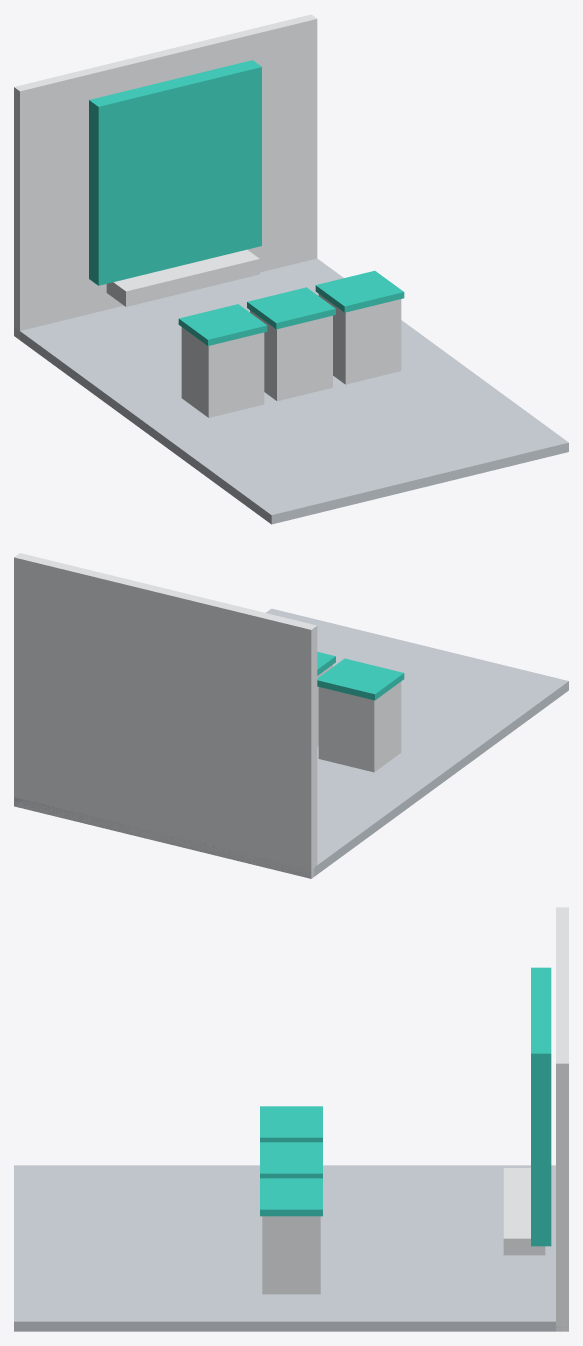
3 renders of one model, top to bottom at view 1: azimuth 30°, elevation 25°; view 2: azimuth 150°, elevation 25°; view 3: azimuth 270°, elevation 25°, orthographic. The views are drawn at different scales.
Parts seen in each view (by area): view 1: Exhibition Booth Concept; view 2: Exhibition Booth Concept; view 3: Exhibition Booth Concept.
Boxes of the visible parts, bbox=[...] form: Exhibition Booth Concept: bbox=[14, 14, 568, 524]; Exhibition Booth Concept: bbox=[14, 553, 568, 878]; Exhibition Booth Concept: bbox=[14, 907, 568, 1331].
Size of the model in its own units: 4 by 3.2 by 6.
